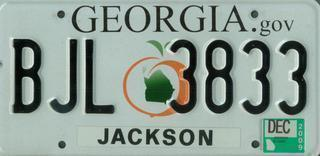placa de veiculo: (6, 0, 312, 151)
